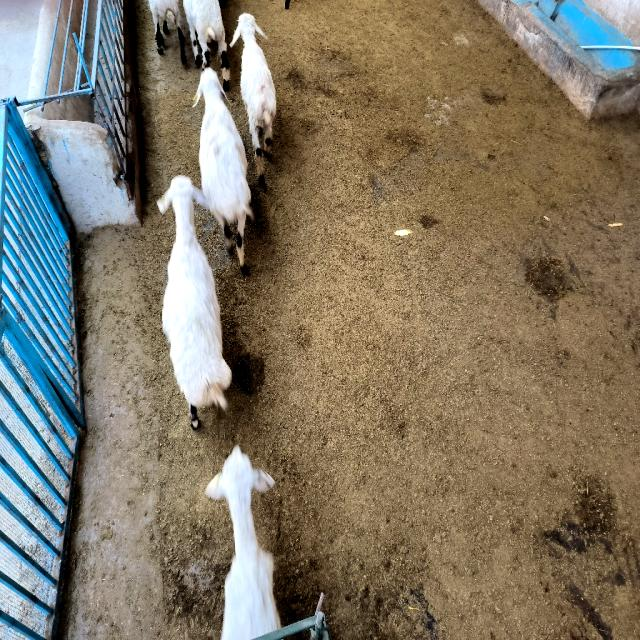sheep: (158, 175, 231, 428), (206, 445, 281, 640), (194, 67, 252, 272), (230, 13, 276, 184), (184, 0, 230, 92), (149, 0, 186, 67)
